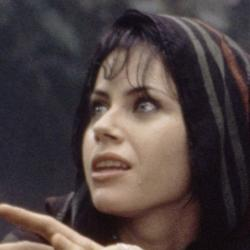face: (50, 11, 250, 228)
